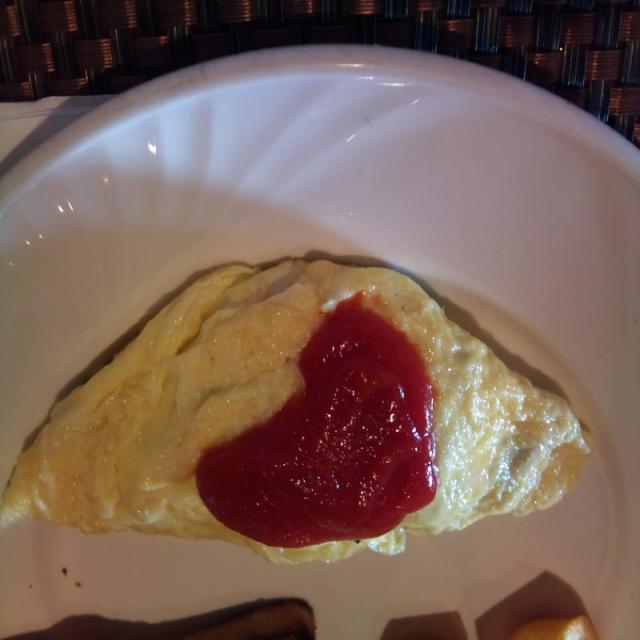Omelet: (16, 302, 571, 564)
